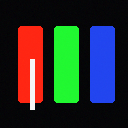4 line_v: (30, 59, 34, 109)
